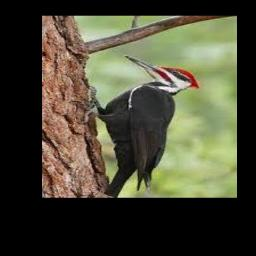Woodpecker: (75, 55, 200, 197)
